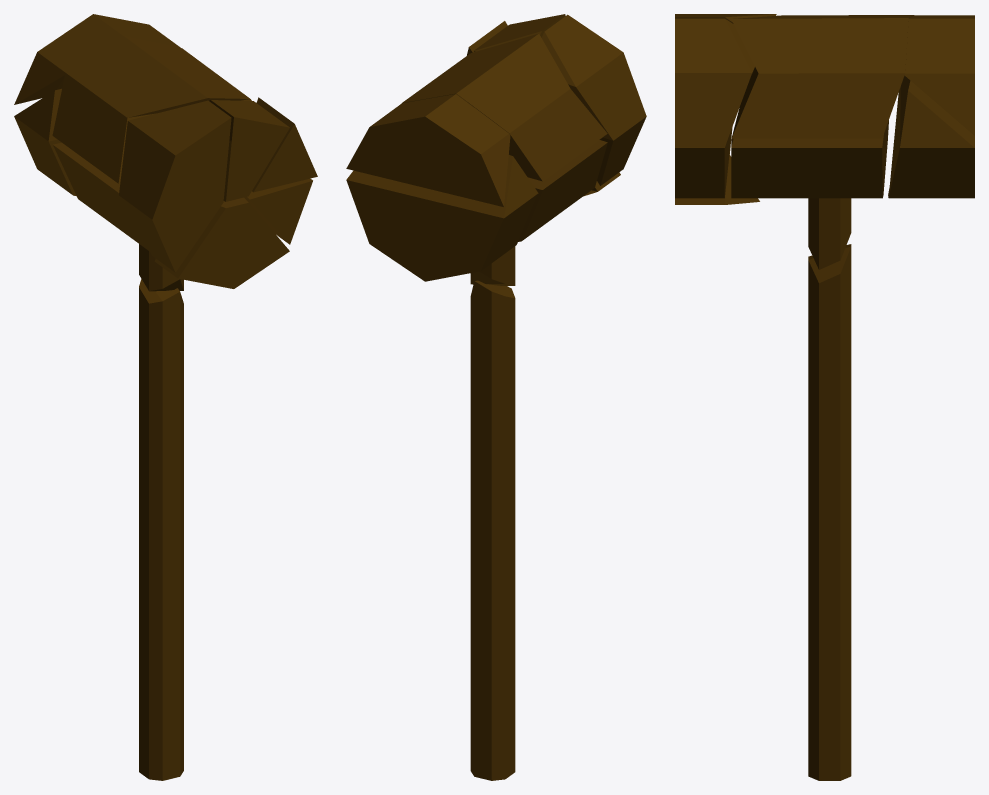
The model's file is broken_hammer_3 (1).fbx.
3 views of the same model, side by side, from view 1: azimuth 30°, elevation 25°; view 2: azimuth 150°, elevation 25°; view 3: azimuth 270°, elevation 25° (orthographic). The views are drawn at different scales.
Visible parts, largest first — view 1: polySurface6, polySurface13, polySurface11, polySurface17, polySurface5, polySurface20, polySurface10, polySurface8, polySurface16, polySurface19; view 2: polySurface6, polySurface8, polySurface11, polySurface5, polySurface13, polySurface10, polySurface20; view 3: polySurface6, polySurface11, polySurface10, polySurface8, polySurface5, polySurface16, polySurface20, polySurface19, polySurface17.
Boxes of the visible parts, box(x1,y1,x2,y2) form: polySurface6: box(139, 279, 183, 780); polySurface13: box(119, 100, 231, 272); polySurface11: box(52, 36, 251, 183); polySurface17: box(154, 197, 289, 288); polySurface5: box(14, 14, 180, 104); polySurface20: box(209, 100, 289, 201); polySurface10: box(53, 142, 245, 291); polySurface8: box(14, 88, 76, 196); polySurface16: box(252, 97, 317, 192); polySurface19: box(244, 178, 312, 244); polySurface6: box(470, 280, 515, 780); polySurface8: box(346, 155, 538, 281); polySurface11: box(402, 33, 607, 181); polySurface5: box(346, 94, 510, 206); polySurface13: box(541, 14, 646, 185); polySurface10: box(470, 140, 607, 285); polySurface20: box(474, 14, 565, 51); polySurface6: box(808, 244, 851, 780); polySurface11: box(731, 15, 913, 138); polySurface10: box(731, 120, 888, 269); polySurface8: box(888, 75, 974, 198); polySurface5: box(904, 15, 974, 135); polySurface16: box(675, 73, 751, 147); polySurface20: box(675, 18, 754, 73); polySurface19: box(675, 128, 732, 198); polySurface17: box(675, 129, 759, 204).
Size of the model in its own units: 0.4574 by 1.87 by 0.6732.
